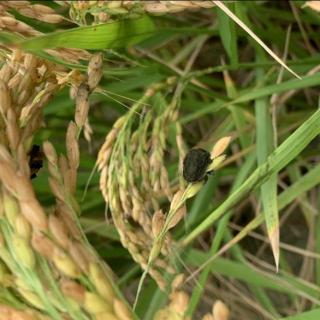Gosong-Palsu: (180, 148, 214, 185), (26, 142, 44, 178)
